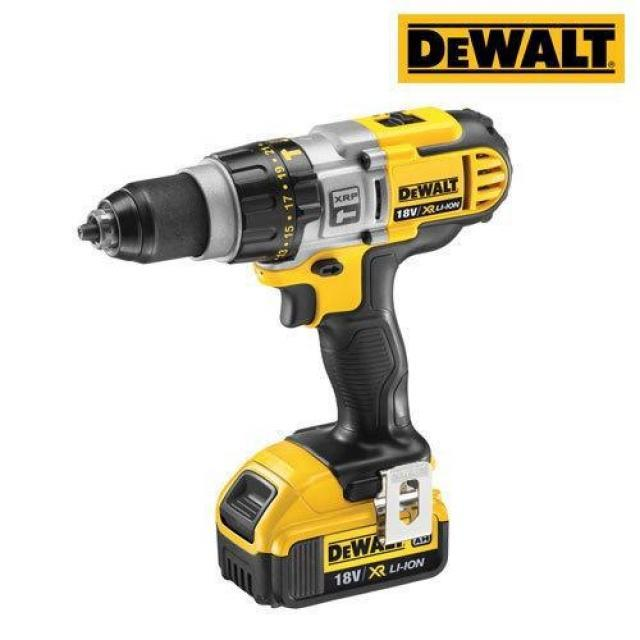drill: (76, 106, 514, 608)
